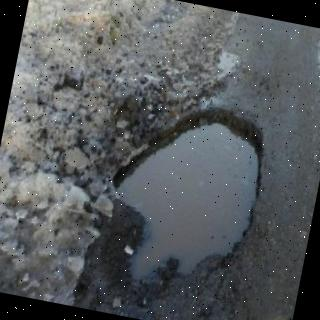pothole: (113, 110, 263, 283)
